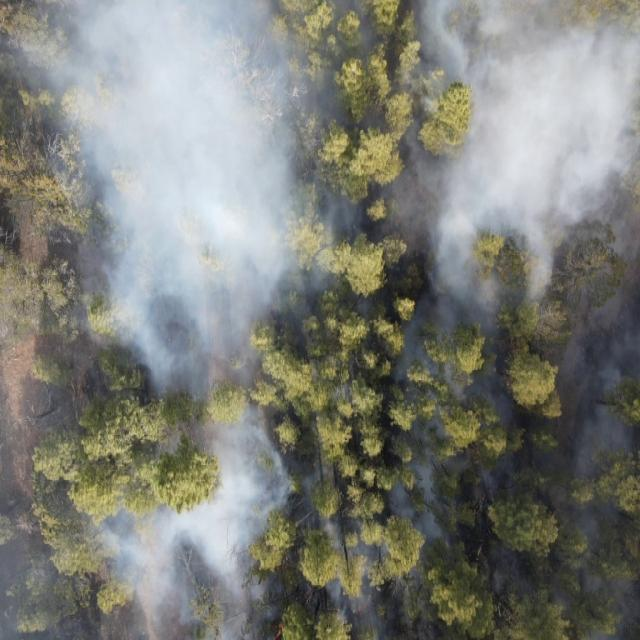fire: (350, 600, 370, 616), (270, 622, 286, 640), (301, 588, 316, 602)
smoke: (0, 0, 640, 399), (0, 499, 640, 640), (204, 398, 640, 498)
